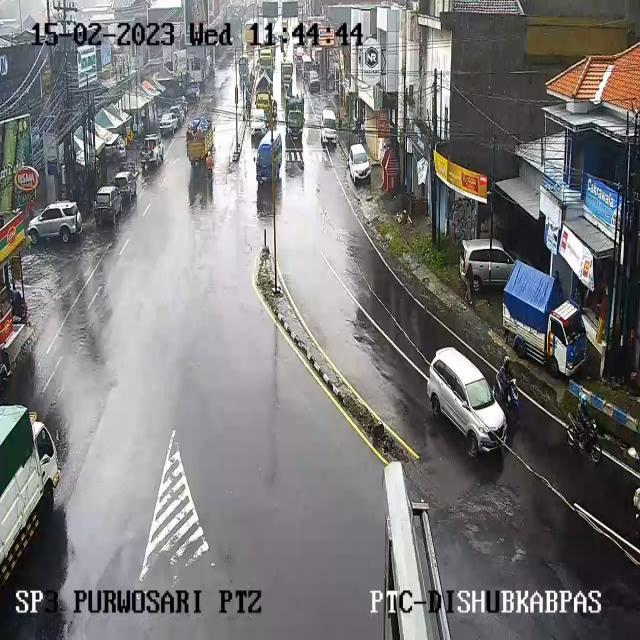Bus: (257, 130, 284, 182)
Car: (424, 341, 504, 461), (458, 238, 516, 294), (27, 202, 81, 245), (92, 186, 125, 227), (139, 134, 166, 169), (347, 144, 370, 183), (112, 170, 139, 203), (320, 108, 338, 143), (250, 109, 269, 138), (159, 112, 178, 134), (306, 70, 321, 92), (169, 105, 185, 124), (186, 82, 200, 102), (302, 54, 314, 74), (295, 46, 305, 62)
Motorbike: (571, 394, 607, 470)
Truck: (1, 395, 64, 582), (503, 266, 586, 378), (186, 116, 215, 164), (286, 98, 305, 139), (255, 92, 273, 114), (258, 48, 274, 70), (280, 62, 294, 86)
